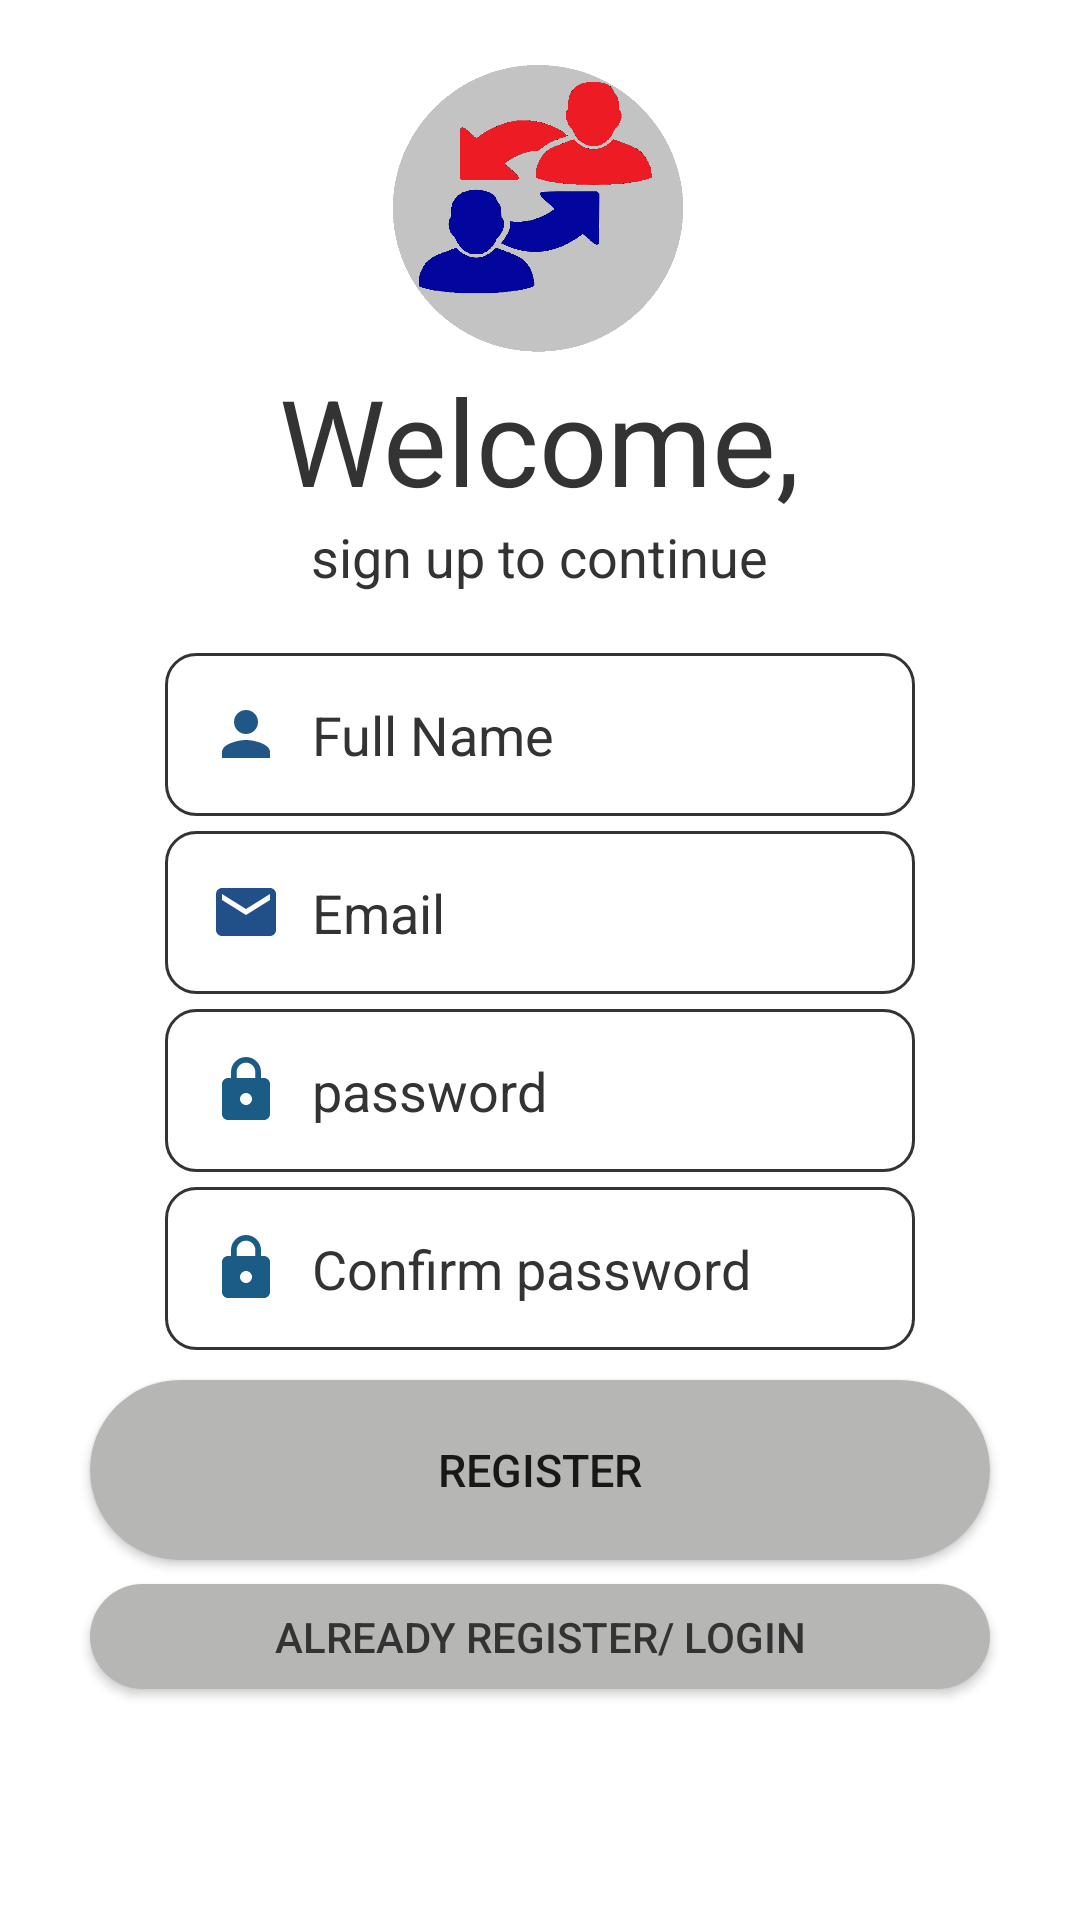

Screen size 1080 x 1920. Icon name, then its box in pixels as rect(x1, y1, x2, y2):
exchange: rect(393, 65, 683, 352)
